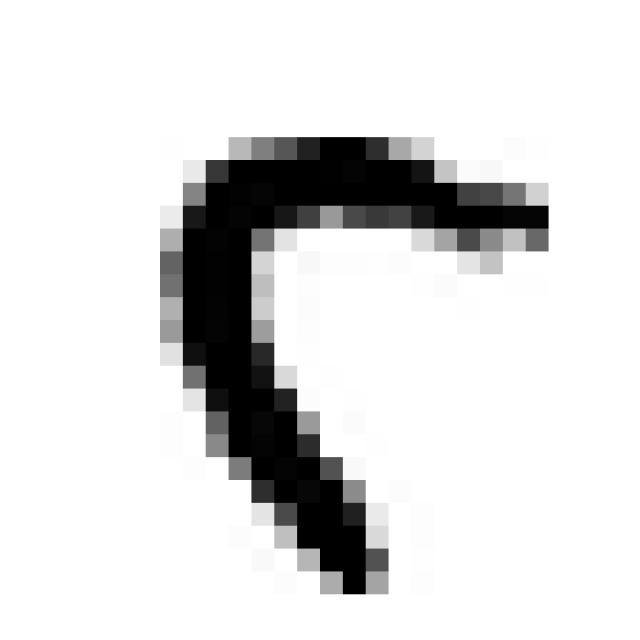2 -two-: (137, 108, 574, 614)
